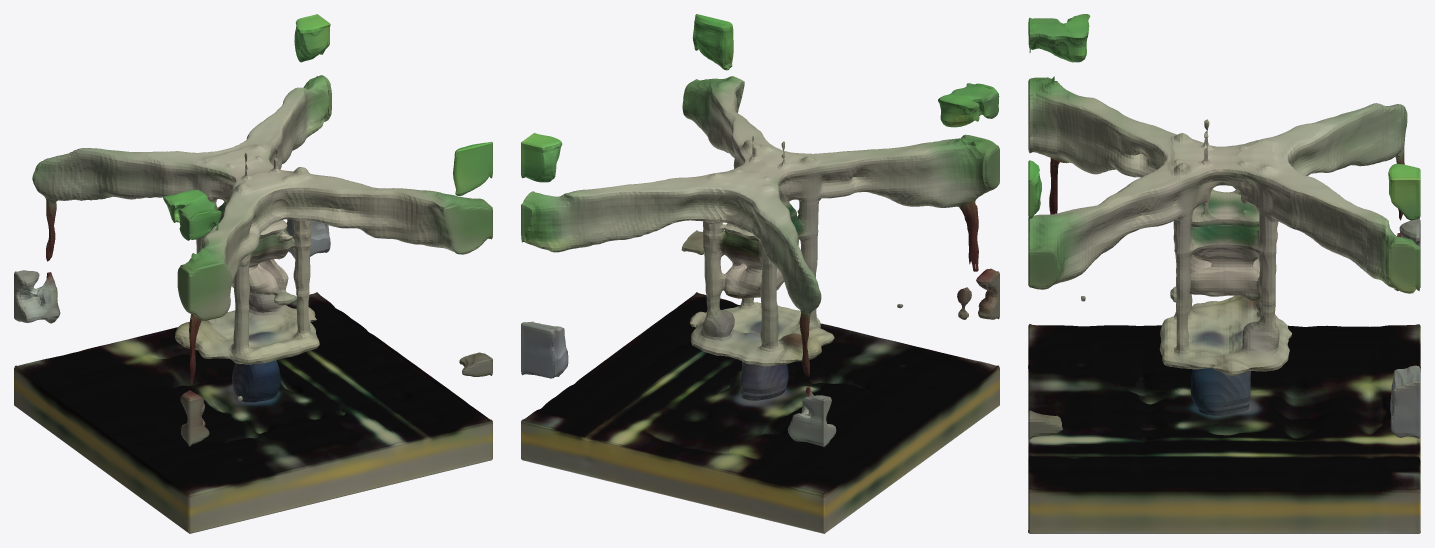
Rendered from dtu_gate.glb.
The picture shows the model from 3 angles, left to right: view 1: azimuth 30°, elevation 25°; view 2: azimuth 150°, elevation 25°; view 3: azimuth 270°, elevation 25°; orthographic projection. The views are drawn at different scales.
Parts seen in each view (by area): view 1: tmptct56ern.ply; view 2: tmptct56ern.ply; view 3: tmptct56ern.ply.
Part boxes in pixels (box(x1,y1,x2,y2)): tmptct56ern.ply: box(14, 14, 492, 533); tmptct56ern.ply: box(521, 14, 999, 533); tmptct56ern.ply: box(1028, 14, 1420, 533).
Bounding box in the file's own units: 1.98 × 1.98 × 1.98.
